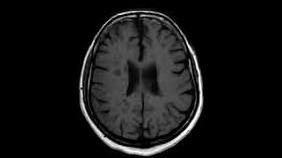Normal_Brain: (39, 12, 210, 158)
